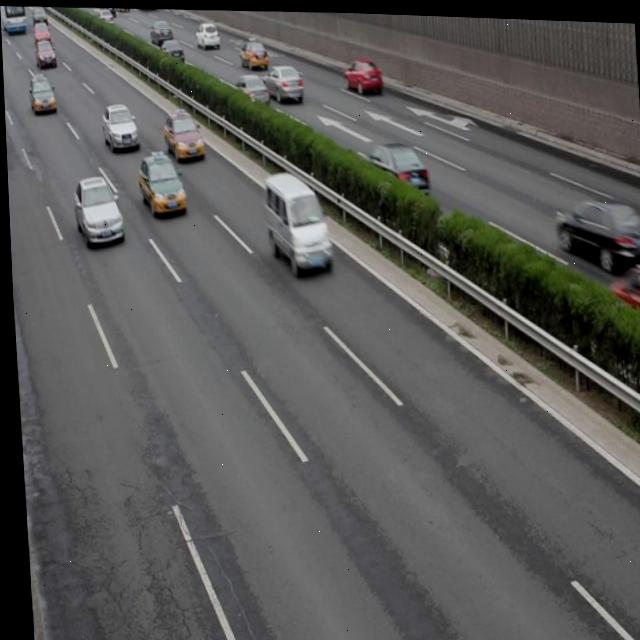car: (551, 190, 640, 266), (360, 136, 427, 193), (71, 175, 121, 247), (136, 149, 185, 216), (604, 259, 640, 331), (161, 107, 205, 160), (99, 99, 137, 150), (260, 63, 301, 101), (342, 56, 380, 93), (232, 70, 267, 106), (27, 72, 55, 112), (236, 35, 268, 68), (193, 20, 219, 48), (158, 35, 183, 64), (148, 16, 171, 45), (34, 36, 55, 66)
truck: (260, 168, 331, 272)
